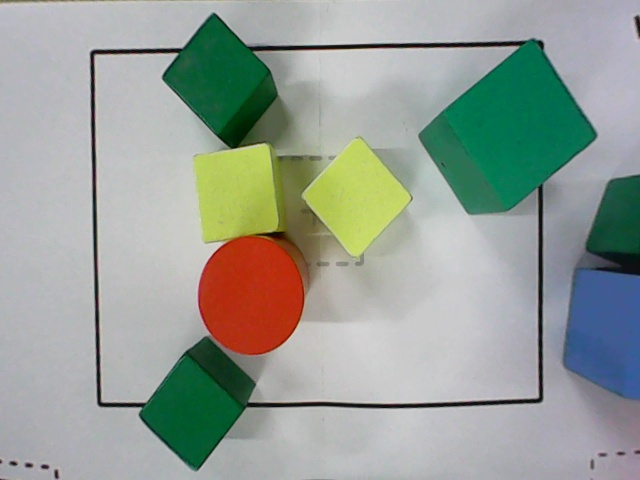upside of big cube: (443, 39, 597, 212)
upside of cylinder: (198, 236, 305, 357)
upside of small cube: (299, 136, 414, 260), (161, 12, 271, 137), (139, 353, 245, 472), (193, 142, 280, 244)
